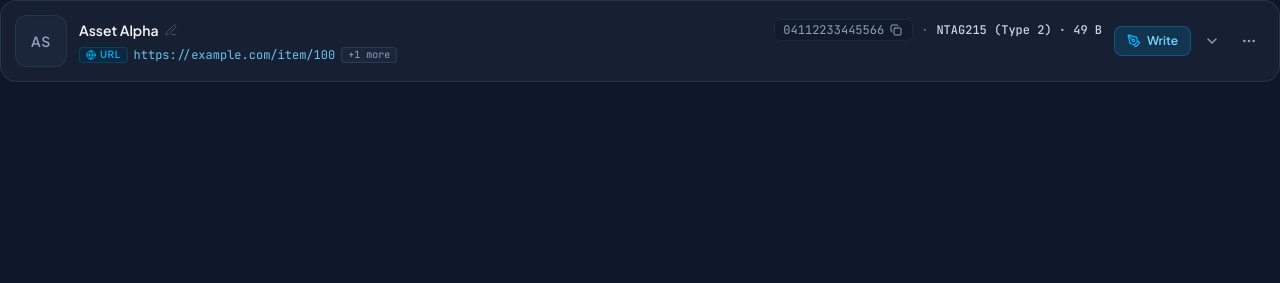
TagCardItem Component Rendering & Interaction Tests › Overflow Actions Menu (⋯) › renders Add photo option in overflow menu when no photo is attached
Click the button with test id "tag-overflow-menu-button" at (1249, 41), box [1233,25,1265,57]
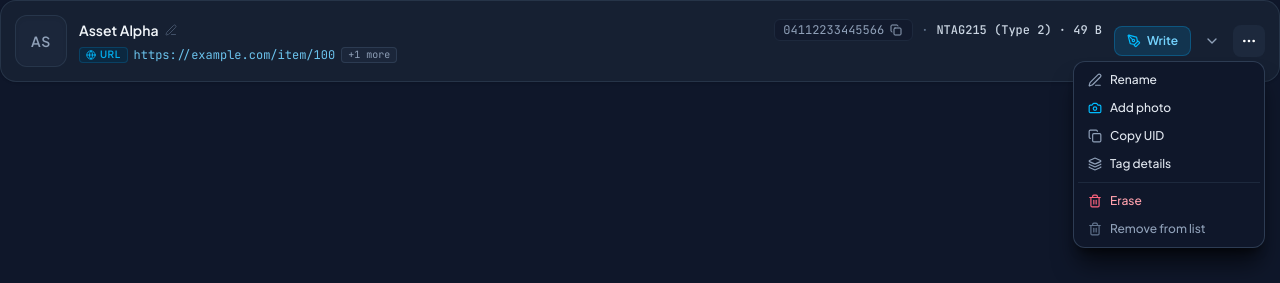
Expected: the menu item "Add photo" is shown, [1078,94,1260,122]
